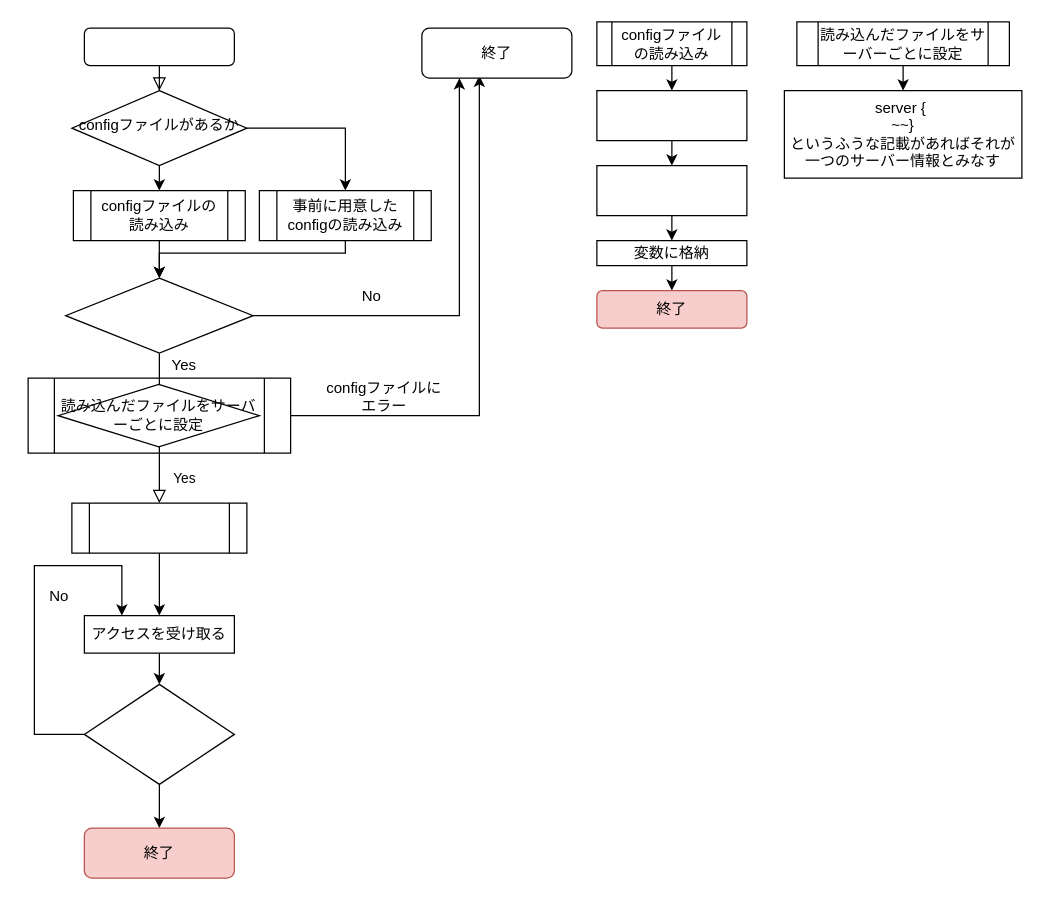
This 1044x900 diagram has some shape labels left out. Each missing label, with the centre of its shape:
"configファイルの形式は合っているか" goes at (158,315).
"ifstreamを用いて ファイルを開く" goes at (671,115).
"ソケットの立ち上げ" goes at (159,527).
"ファイル内部の 読み込み" goes at (671,190).
"終了ステータスを受け取る" goes at (158,733).
"開始" goes at (158,46).
